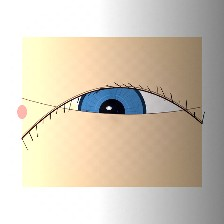pinguecula_lesion: (39, 86, 90, 127)
